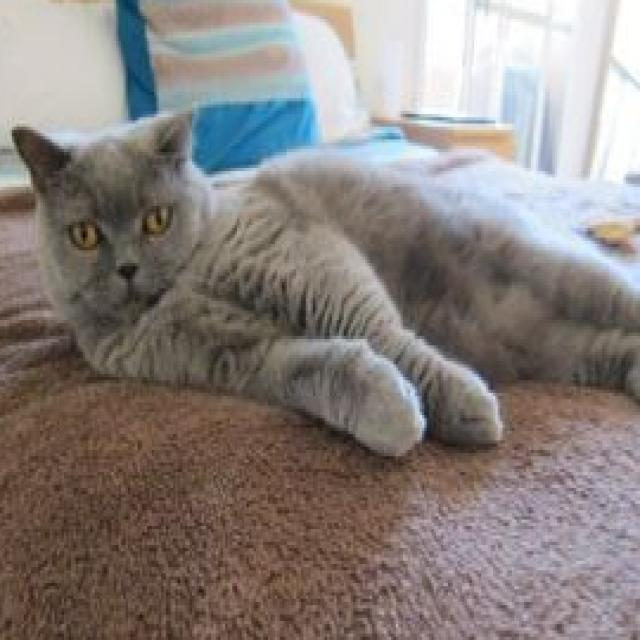British Shorthair: (7, 98, 640, 463)
